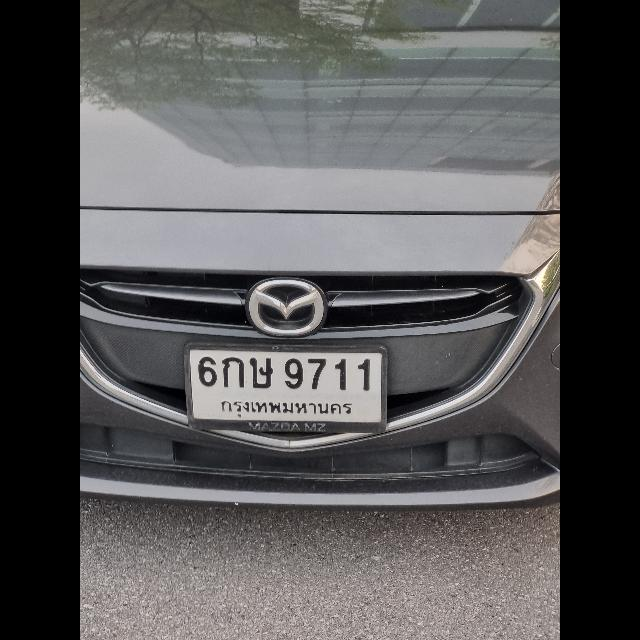licenseplate: (188, 341, 388, 435)
